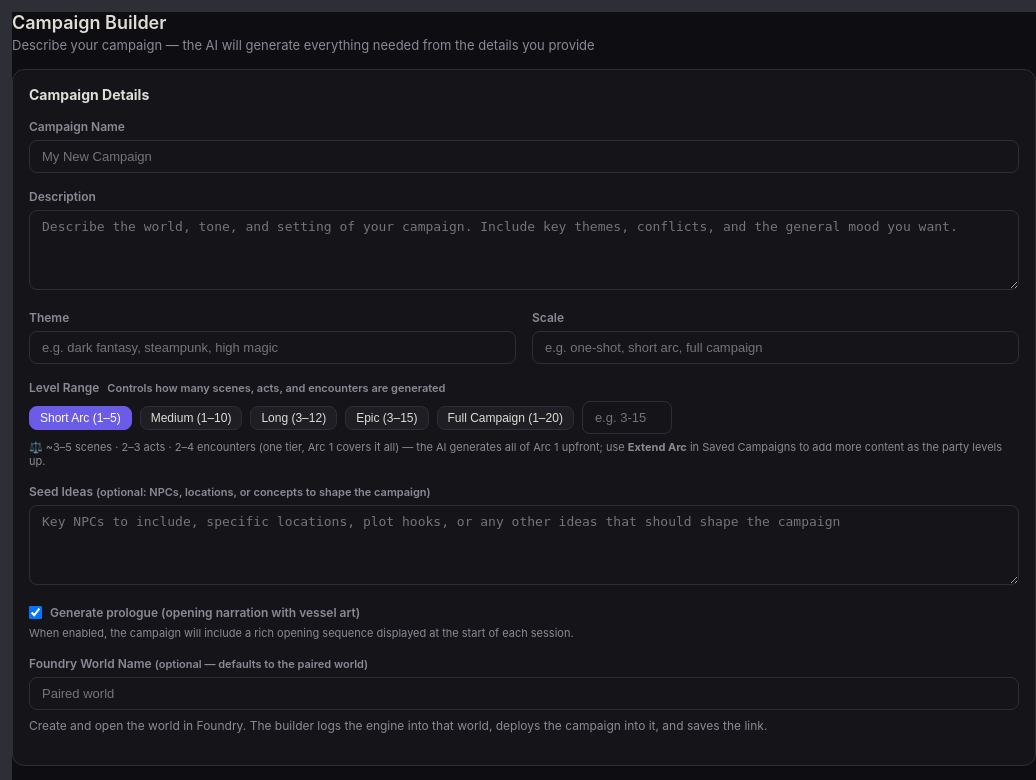
Scenario: CampaignBuilder › picking Medium (1–10) sets the range to 1-10
Step 1. Click the button "Medium (1–10)" → {"x": 191, "y": 418}, box [140, 406, 242, 430]
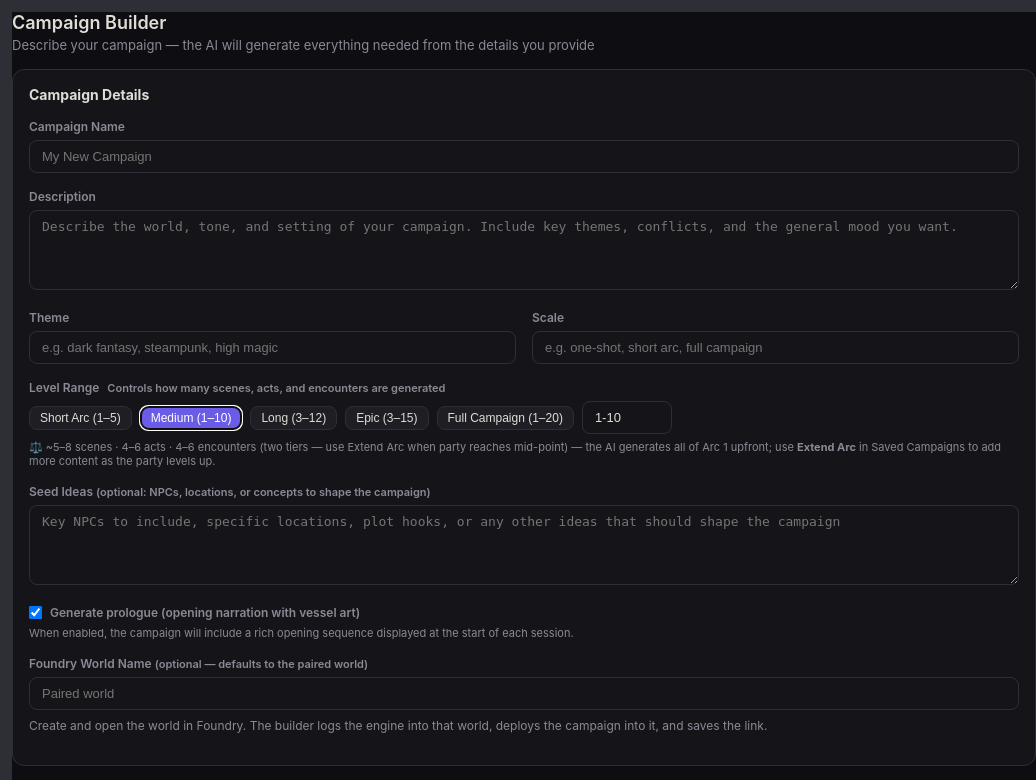
Expected: the field labelled "Level Range" holds "1-10", [582, 401, 672, 434]
